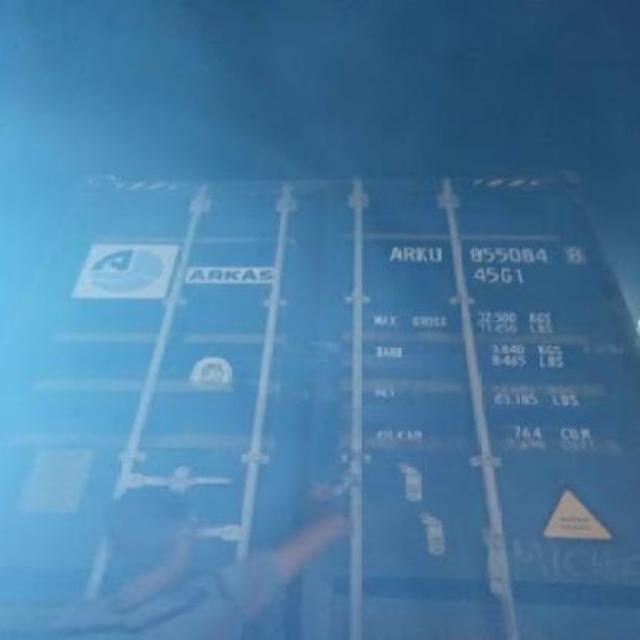0: (508, 237, 522, 267)
4: (534, 237, 552, 270)
5: (494, 235, 510, 265), (480, 236, 496, 264)
8: (562, 241, 584, 265), (466, 239, 482, 265), (522, 237, 534, 267)
A: (386, 240, 402, 266)
K: (412, 240, 428, 266)
R: (401, 240, 414, 264)
U: (426, 240, 442, 268)
